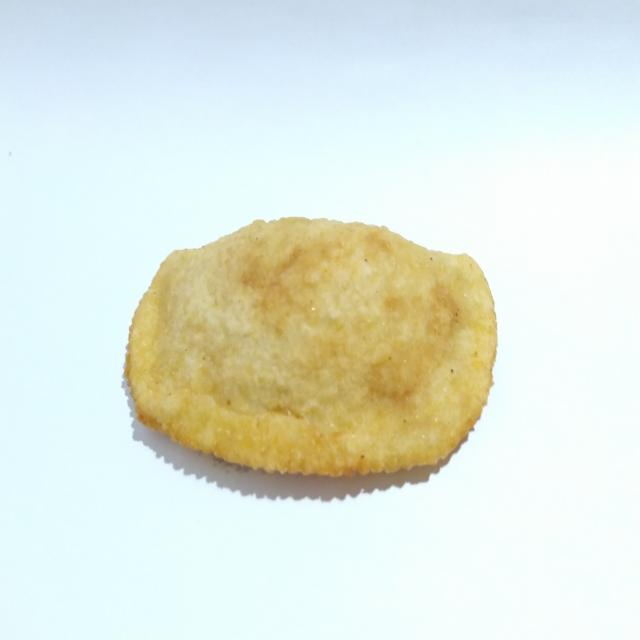Food: (112, 201, 504, 504)
